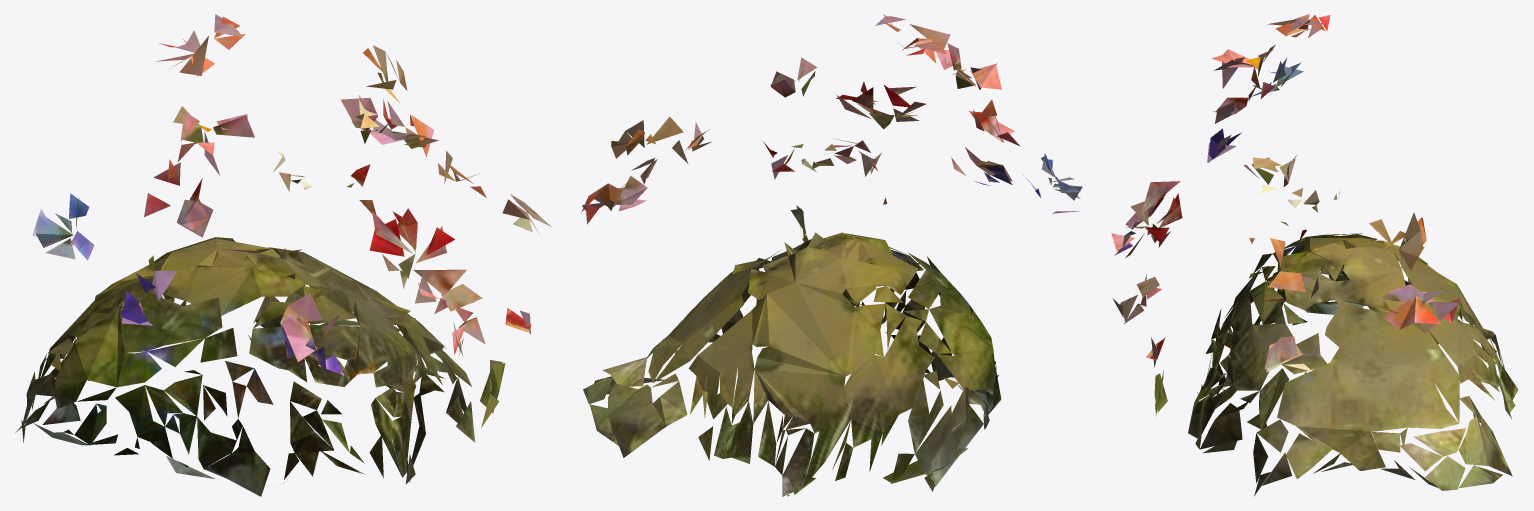
The model's file is flower_patch.glb.
The picture shows the model from 3 angles, left to right: view 1: azimuth 30°, elevation 25°; view 2: azimuth 150°, elevation 25°; view 3: azimuth 270°, elevation 25°; orthographic projection. The views are drawn at different scales.
Parts seen in each view (by area): view 1: geometry_0; view 2: geometry_0; view 3: geometry_0.
Part boxes in pixels (box(x1,y1,x2,y2)): geometry_0: box(15, 14, 552, 496); geometry_0: box(581, 14, 1082, 496); geometry_0: box(1111, 14, 1518, 496).
Size of the model in its own units: 1.95 by 1.66 by 1.58.
Materials: 1 (1 with a texture image).
